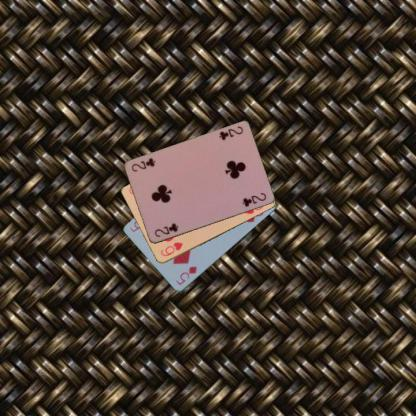2c: (216, 124, 246, 141), (152, 220, 179, 238)
5d: (173, 264, 198, 286)
6h: (158, 240, 184, 258)
